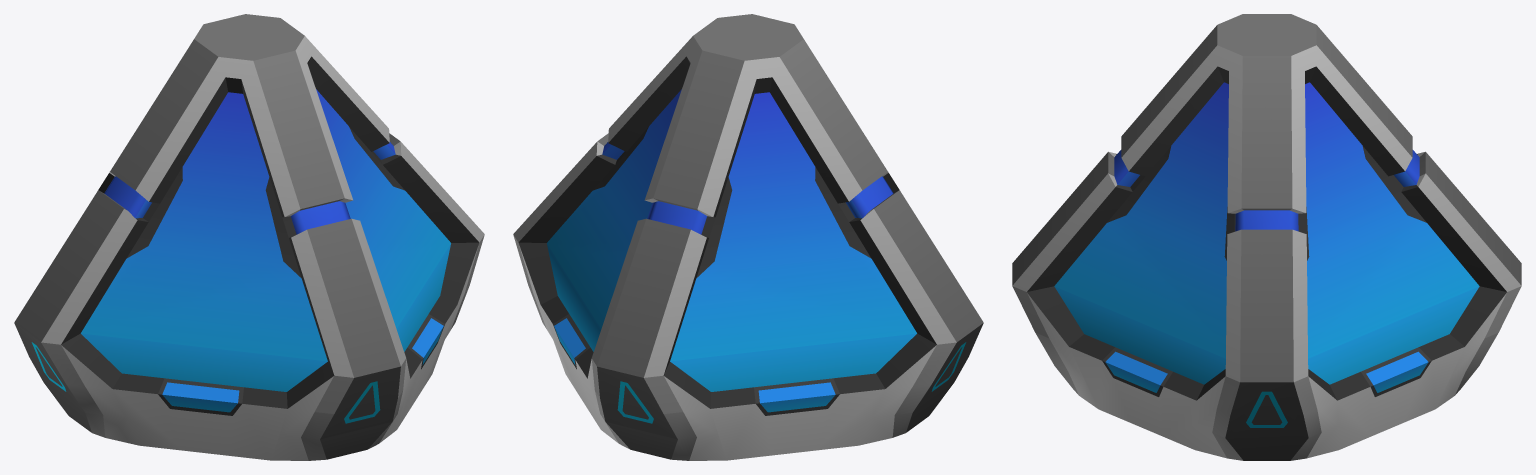
File: SciFi_Light_02.fbx
The picture shows the model from 3 angles, left to right: view 1: azimuth 30°, elevation 25°; view 2: azimuth 150°, elevation 25°; view 3: azimuth 270°, elevation 25°; orthographic projection.
Parts seen in each view (by area): view 1: SciFi_Light_02; view 2: SciFi_Light_02; view 3: SciFi_Light_02.
Boxes of the visible parts, <box> form: SciFi_Light_02: <box>14,14,484,460</box>; SciFi_Light_02: <box>513,14,983,460</box>; SciFi_Light_02: <box>1012,14,1521,460</box>.
Size of the model in its own units: 146 by 109 by 146.
